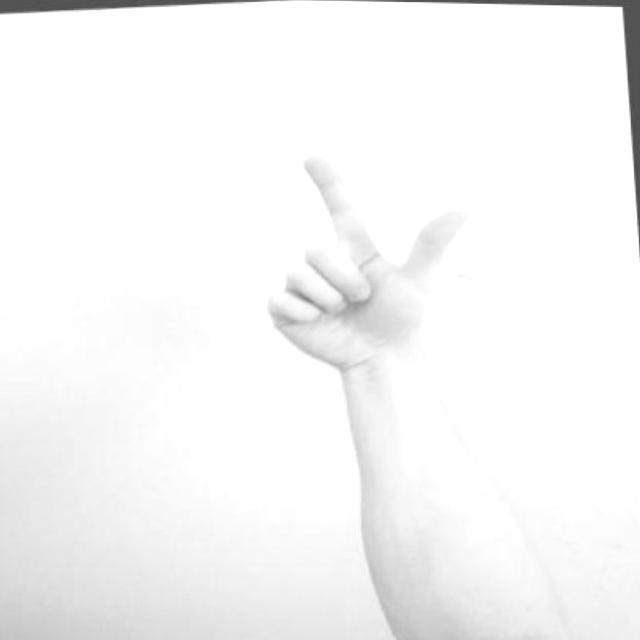L: (267, 153, 480, 389)
